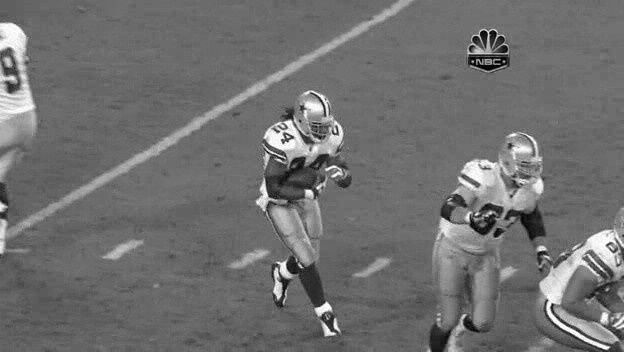person: (296, 92, 333, 139), (295, 92, 332, 139), (297, 92, 334, 139), (296, 91, 333, 138), (296, 93, 333, 140)
target_negative: (306, 290, 565, 337), (441, 147, 487, 255), (23, 216, 234, 239), (469, 125, 514, 169)
